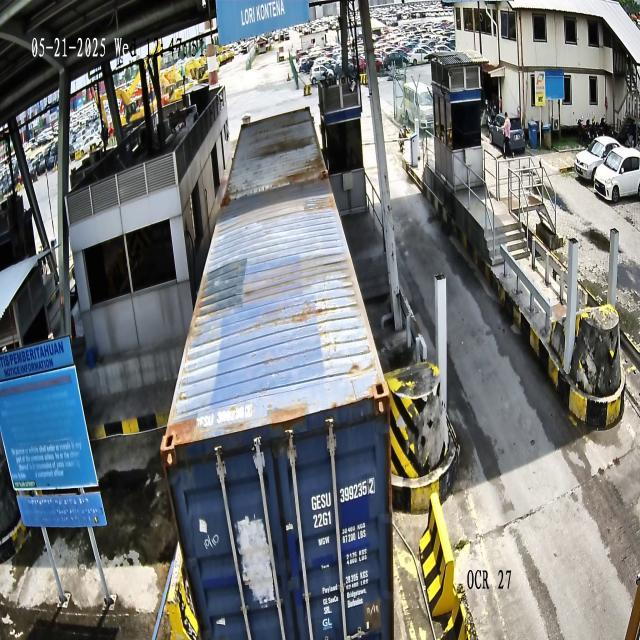ISO: (312, 511, 333, 533)
container_number: (311, 475, 376, 513)
